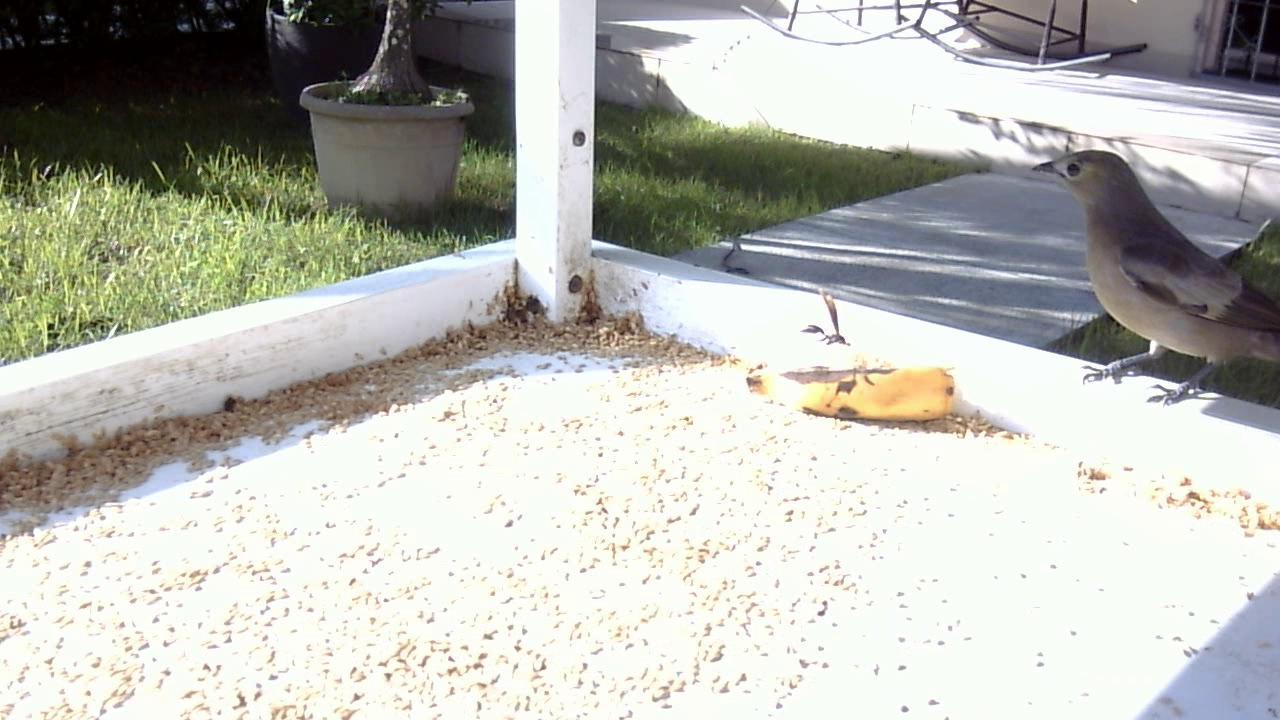sanhaco_do_coqueiro: (1013, 137, 1278, 436)
